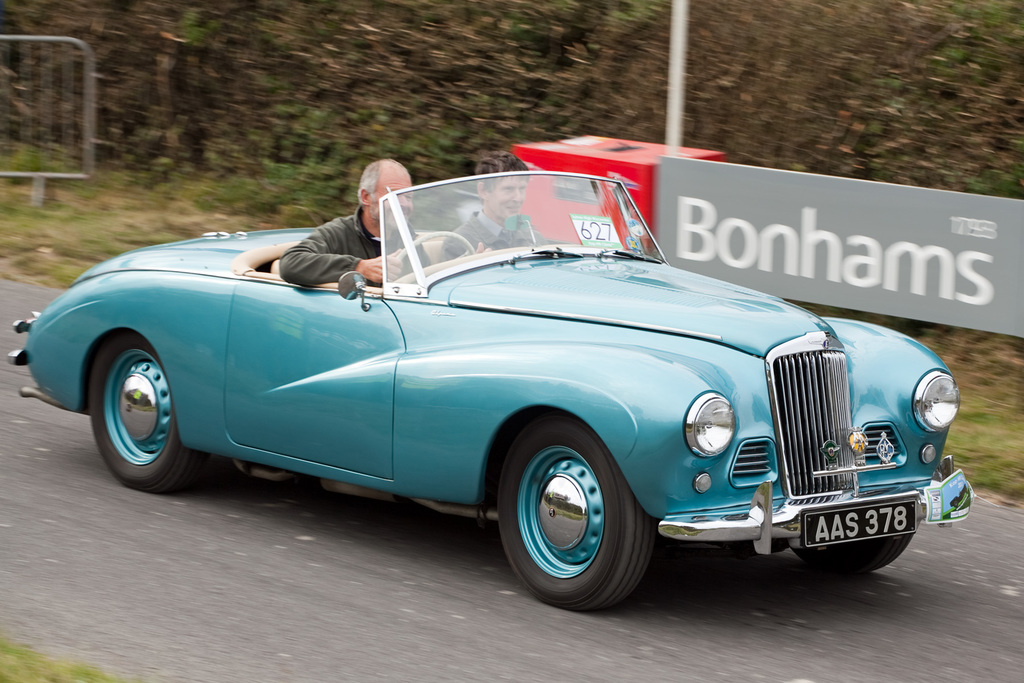Car: (7, 171, 999, 612)
